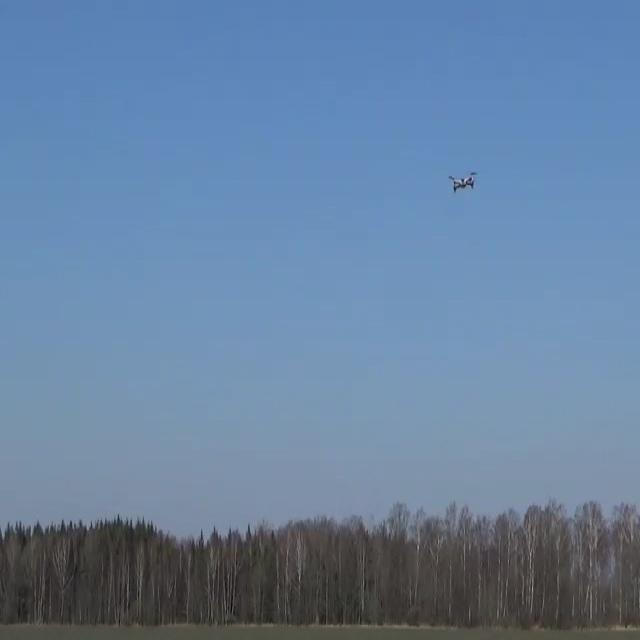drone: (448, 170, 477, 192)
